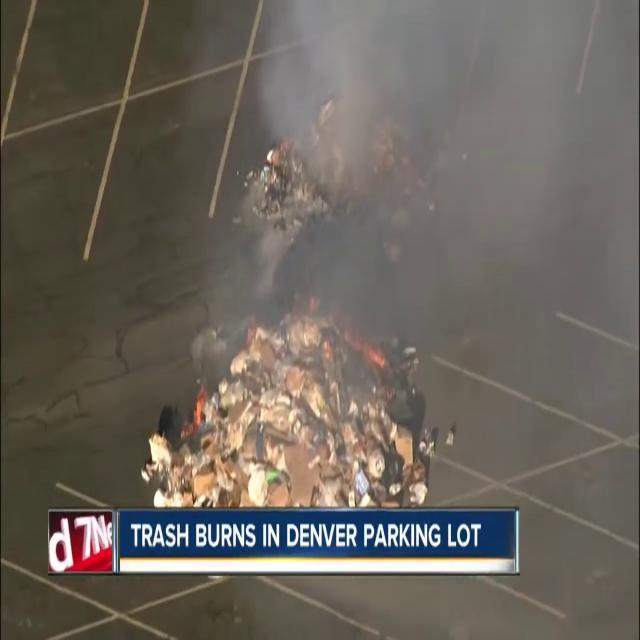Fire: (192, 389, 208, 422)
Smoke: (242, 0, 636, 304)
